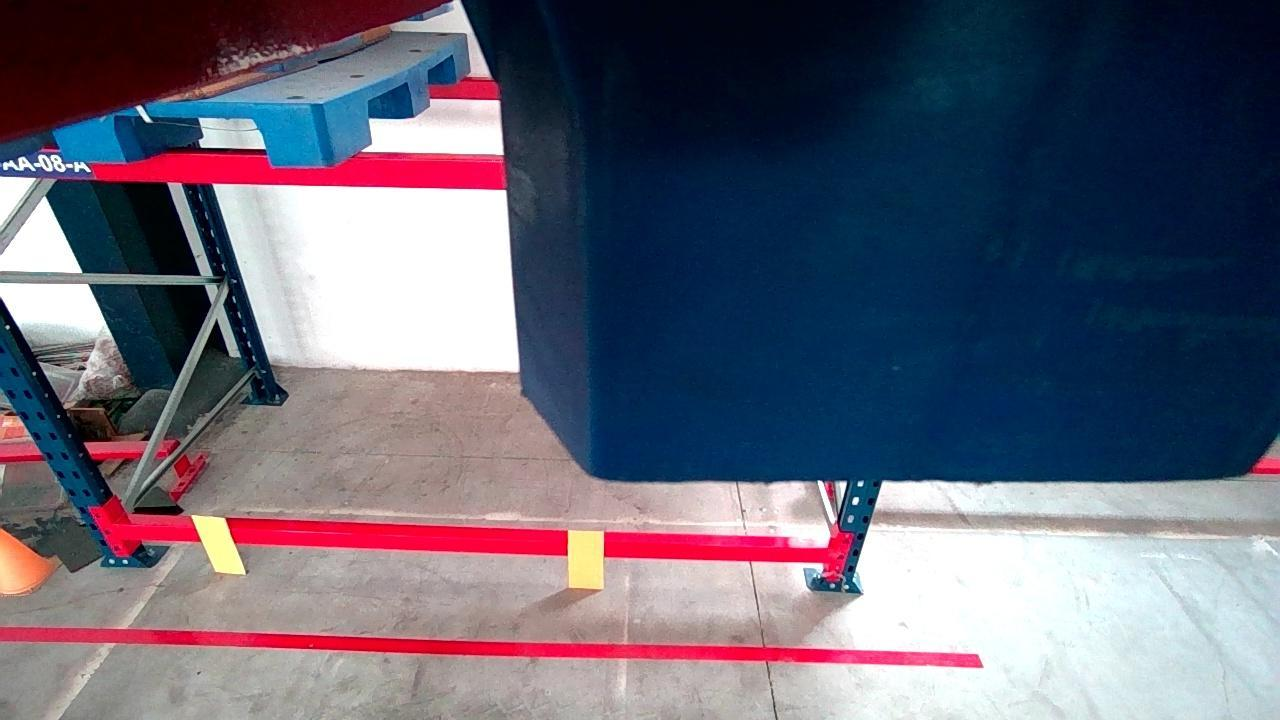h_rack: (119, 525, 830, 564), (0, 153, 504, 186)
orange_strip: (192, 514, 245, 572), (568, 530, 604, 587)
red_line: (2, 624, 983, 668)
small_pallet: (54, 106, 329, 166)
